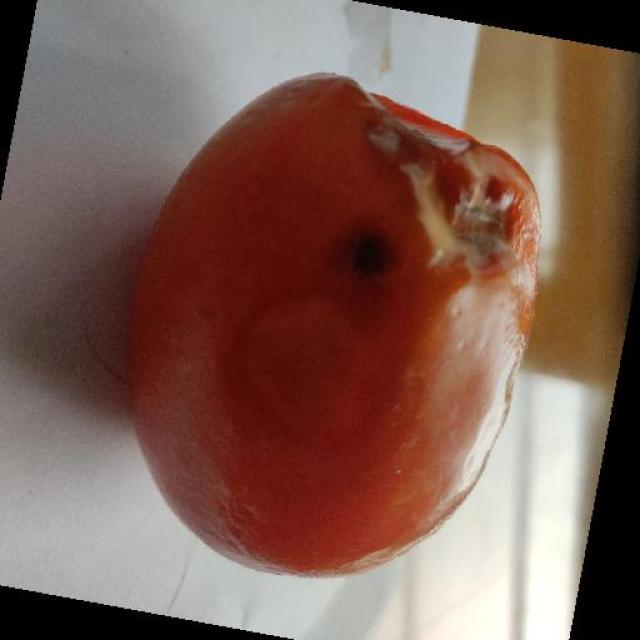Rotten Tomato: (90, 42, 575, 596)
